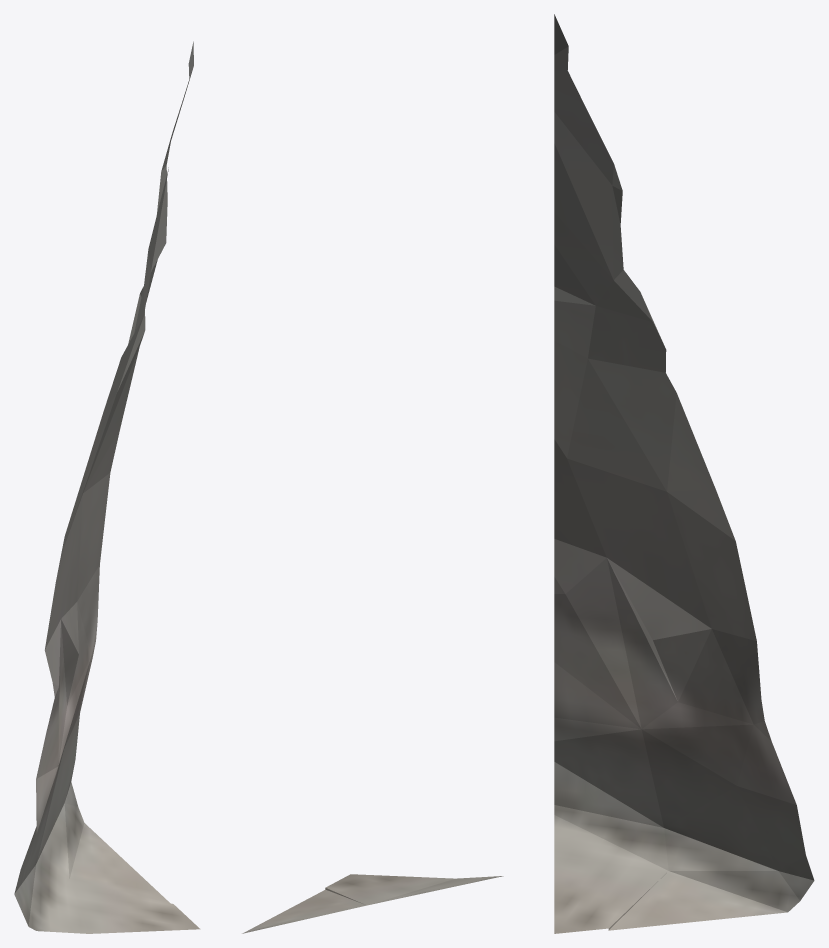
3 views of the same model, side by side, from view 1: azimuth 30°, elevation 25°; view 2: azimuth 150°, elevation 25°; view 3: azimuth 270°, elevation 25° (orthographic). The views are drawn at different scales.
Bounding box in the file's own units: 0.126 × 0.5914 × 0.1515.
1 material, 1 textured.
